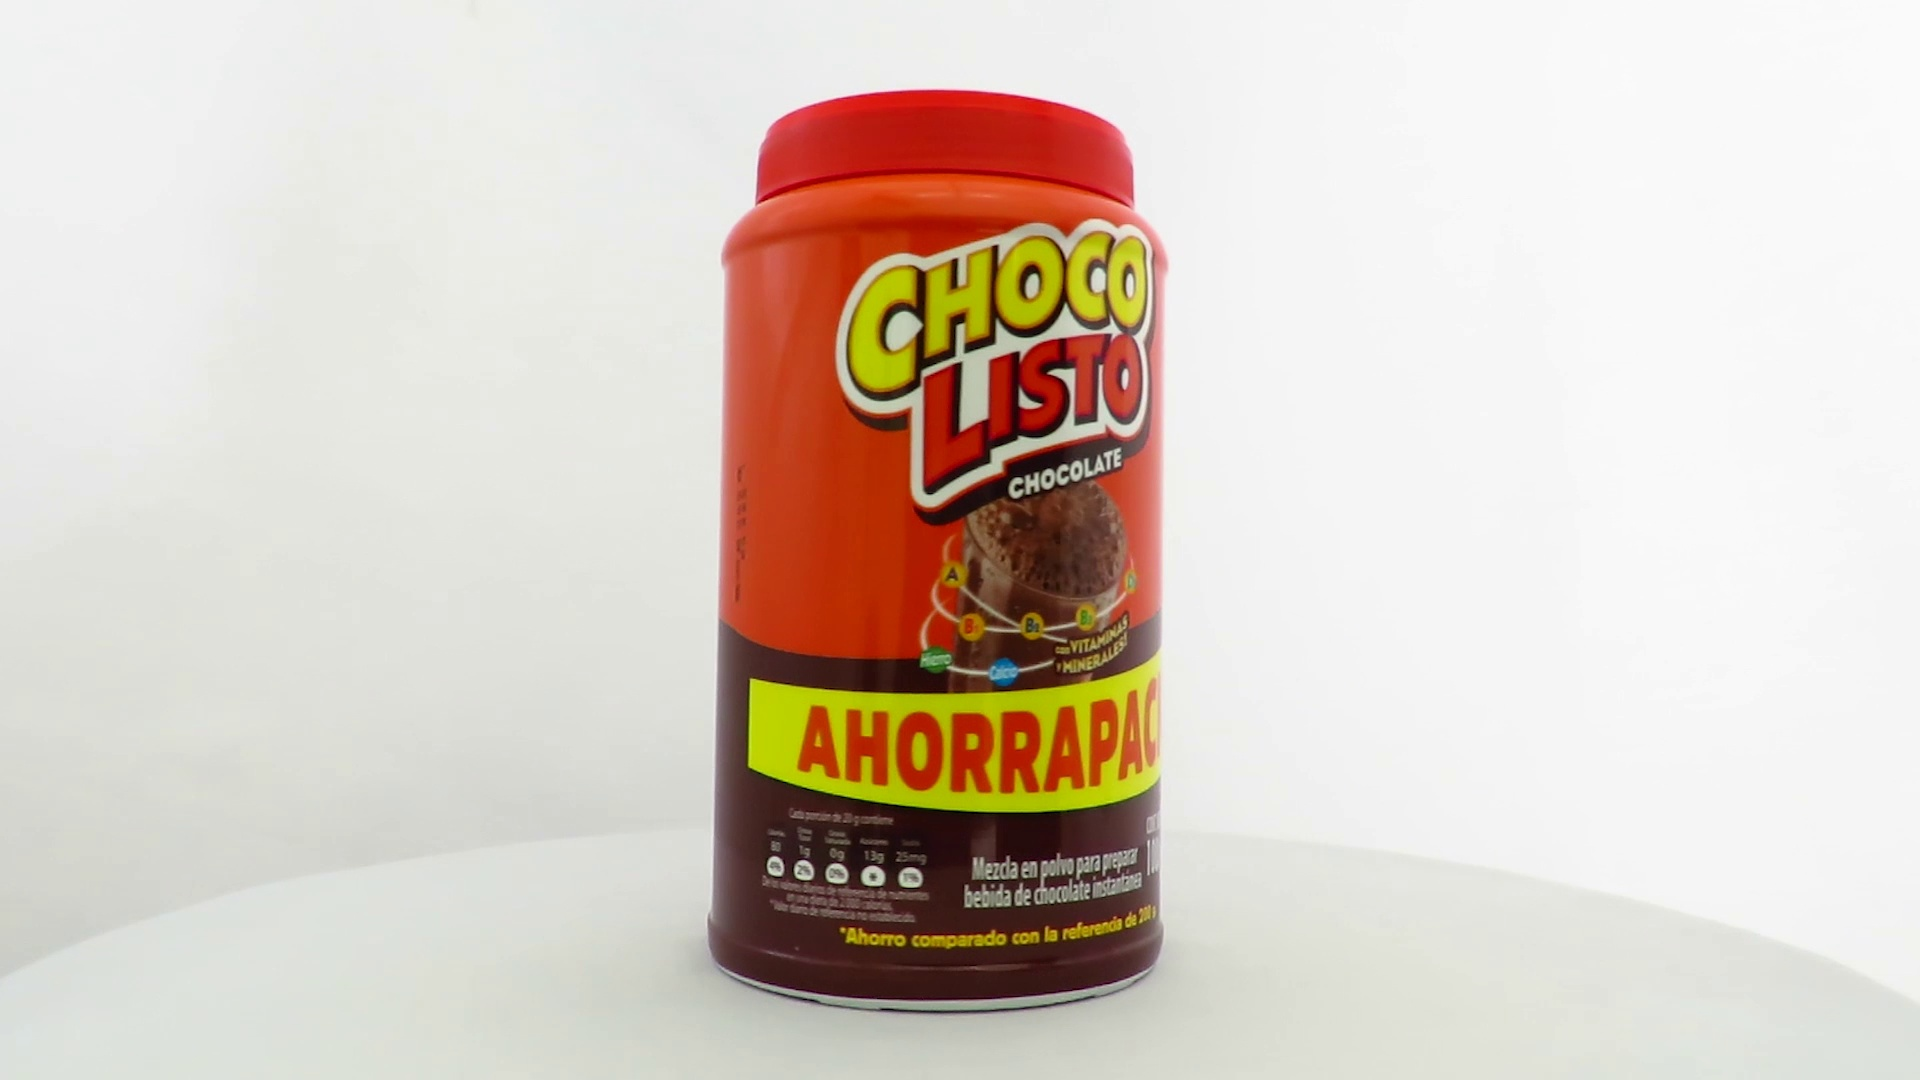COL0170103TRR00100: (702, 84, 1170, 1021)
